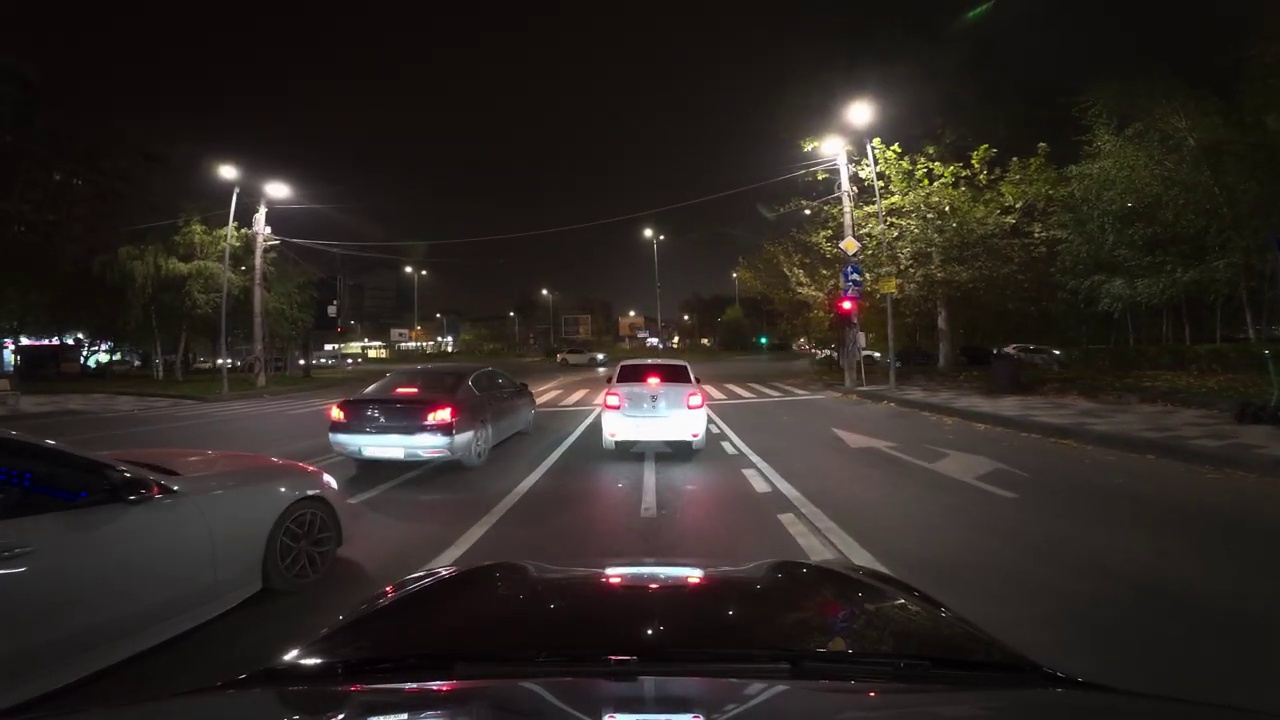acesa: (214, 162, 248, 194), (844, 99, 876, 127), (213, 160, 241, 186), (263, 178, 293, 202), (639, 224, 660, 246)
